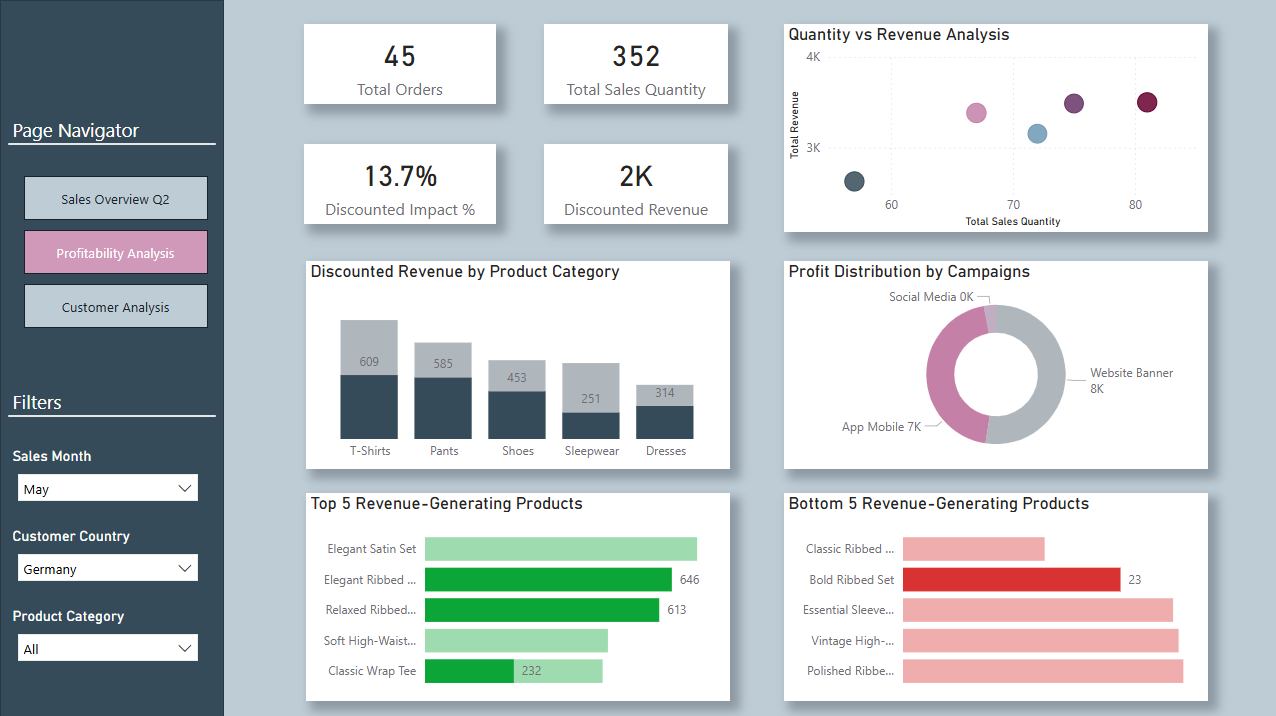

The dashboard page shown, as its layout file describes it:
{"tool":"powerbi","page":{"name":"Profitability Analysis","canvas":[1280,720],"ordinal":1},"visuals":[{"type":"shape","box":[0,0,224,720],"z":0,"group":"g2"},{"type":"scatterChart","title":"Quantity vs Revenue Analysis","fields":{"Series":["products.category"],"Size":["sales.Average Order Value"],"X":["sales.Total Sales Quantity"],"Y":["sales.Total Revenue"]},"box":[784,24,424,208],"z":0},{"type":"clusteredBarChart","title":"Top 5 Revenue-Generating Products","fields":{"Category":["products.product_name"],"Y":["sales.Total Revenue"]},"box":[306,493,424,208],"z":1000},{"type":"clusteredBarChart","title":"Bottom 5 Revenue-Generating Products","fields":{"Category":["products.product_name"],"Y":["sales.Total Revenue"]},"box":[784,493,424,208],"z":2000},{"type":"card","fields":{"Values":["sales.Total Orders"]},"box":[304,24,192,80],"z":3000},{"type":"card","fields":{"Values":["sales.Discounted Revenue"]},"box":[544,144,184,80],"z":4000},{"type":"card","fields":{"Values":["sales.Discounted Impact %"]},"box":[304,144,192,80],"z":5000},{"type":"clusteredColumnChart","title":"Discounted Revenue by Product Category","fields":{"Category":["products.category"],"Y":["sales.Discounted Revenue"]},"box":[306,261,424,208],"z":6000},{"type":"card","fields":{"Values":["sales.Total Sales Quantity"]},"box":[544,24,184,80],"z":7000},{"type":"donutChart","title":"Profit Distribution by Campaigns","fields":{"Category":["sales.channel_campaigns"],"Y":["sales.Total Profit"]},"box":[784,261,424,208],"z":8000},{"type":"slicer","title":"Sales Month","fields":{"Values":["Calendar.Calendar Hierarchy.Month"]},"box":[12.1,437.9,200,64],"z":9000,"group":"g1"},{"type":"group","id":"g1","title":"Group 3","box":[12.1,437.9,200,224],"z":9000},{"type":"slicer","title":"Sales Month","fields":{"Values":["Calendar.Calendar Hierarchy.Month"]},"box":[8,448,200,64],"z":9000,"group":"g3"},{"type":"group","id":"g2","title":"Group 2","box":[0,0,224,720],"z":10000},{"type":"slicer","title":"Customer Country ","fields":{"Values":["customers.country"]},"box":[12.1,517.9,200,64],"z":10000,"group":"g1"},{"type":"slicer","title":"Customer Country ","fields":{"Values":["customers.country"]},"box":[8,528,200,64],"z":10000,"group":"g3"},{"type":"slicer","title":"Product Category","fields":{"Values":["products.category"]},"box":[12.1,597.9,200,64],"z":11000,"group":"g1"},{"type":"slicer","title":"Product Category","fields":{"Values":["products.category"]},"box":[8,608,200,64],"z":11000,"group":"g3"},{"type":"group","id":"g3","title":"Group 3","box":[8,448,200,224],"z":11500},{"type":"pageNavigator","box":[24,176,184,152],"z":12000,"group":"g2"},{"type":"textbox","box":[8,112,200,40],"z":13000,"group":"g5"},{"type":"textbox","box":[8,384,200,40],"z":13000,"group":"g4"},{"type":"group","id":"g4","title":"Group 1","box":[8,384,208,48],"z":13000,"group":"g2"},{"type":"group","id":"g5","title":"Group 1","box":[8,112,208,48],"z":14000,"group":"g2"},{"type":"shape","box":[8,128,208,32],"z":14000,"group":"g5"},{"type":"shape","box":[8,400,208,32],"z":14000,"group":"g4"}]}

Visuals, with their boxes on the page's 1280x720 design canvas (x1, y1, x2, y2). These are canvas units, not pixel positions in the 1276x716 screenshot, which may show the page scaled, cropped or inside an application window:
shape: detection(0, 0, 224, 720)
"Quantity vs Revenue Analysis" scatterChart: detection(784, 24, 1208, 232)
"Top 5 Revenue-Generating Products" clusteredBarChart: detection(306, 493, 730, 701)
"Bottom 5 Revenue-Generating Products" clusteredBarChart: detection(784, 493, 1208, 701)
card - sales.Total Orders: detection(304, 24, 496, 104)
card - sales.Discounted Revenue: detection(544, 144, 728, 224)
card - sales.Discounted Impact %: detection(304, 144, 496, 224)
"Discounted Revenue by Product Category" clusteredColumnChart: detection(306, 261, 730, 469)
card - sales.Total Sales Quantity: detection(544, 24, 728, 104)
"Profit Distribution by Campaigns" donutChart: detection(784, 261, 1208, 469)
"Sales Month" slicer: detection(12, 438, 212, 502)
"Group 3" group: detection(12, 438, 212, 662)
"Sales Month" slicer: detection(8, 448, 208, 512)
"Group 2" group: detection(0, 0, 224, 720)
"Customer Country " slicer: detection(12, 518, 212, 582)
"Customer Country " slicer: detection(8, 528, 208, 592)
"Product Category" slicer: detection(12, 598, 212, 662)
"Product Category" slicer: detection(8, 608, 208, 672)
"Group 3" group: detection(8, 448, 208, 672)
pageNavigator: detection(24, 176, 208, 328)
textbox: detection(8, 112, 208, 152)
textbox: detection(8, 384, 208, 424)
"Group 1" group: detection(8, 384, 216, 432)
"Group 1" group: detection(8, 112, 216, 160)
shape: detection(8, 128, 216, 160)
shape: detection(8, 400, 216, 432)
